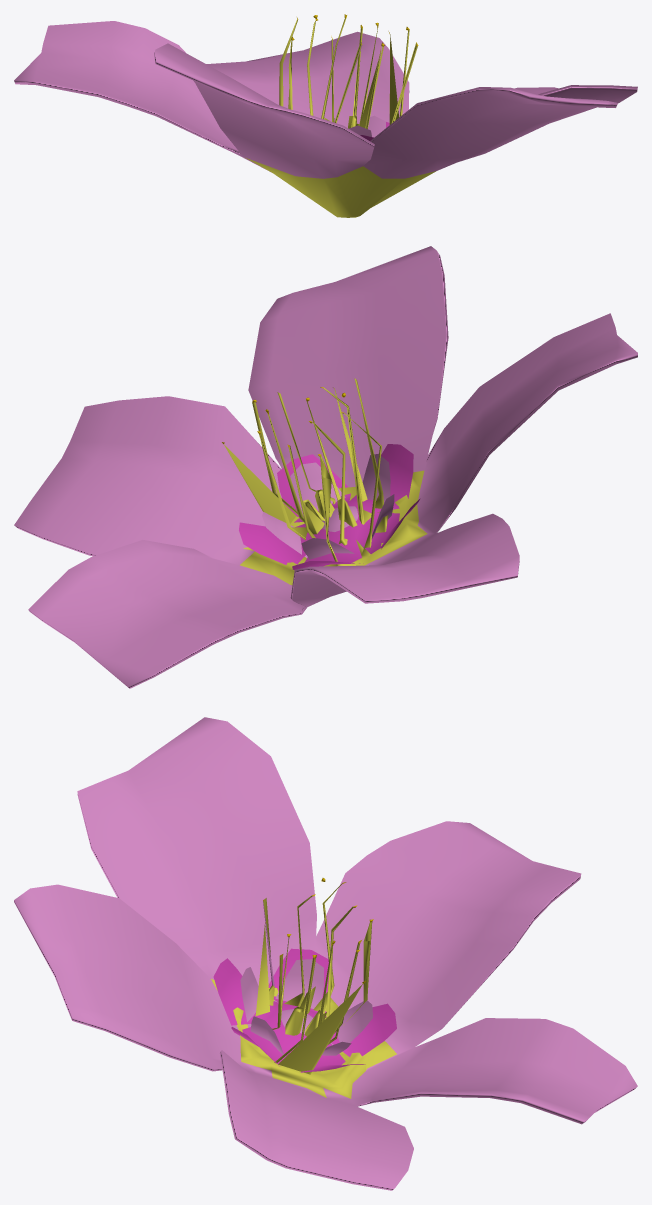
Rendered from cherry_blossom_v2.dae.
The picture shows the model from 3 angles, top to bottom: view 1: azimuth 30°, elevation 25°; view 2: azimuth 150°, elevation 25°; view 3: azimuth 270°, elevation 25°; orthographic projection. The views are drawn at different scales.
Visible parts, largest first — view 1: pSphere20; view 2: pSphere20; view 3: pSphere20.
Part boxes in pixels (box(x1,y1,x2,y2)): pSphere20: box(14, 14, 637, 217); pSphere20: box(14, 246, 637, 688); pSphere20: box(14, 717, 637, 1190).
Bounding box in the file's own units: 8.81 × 4.01 × 8.88.
